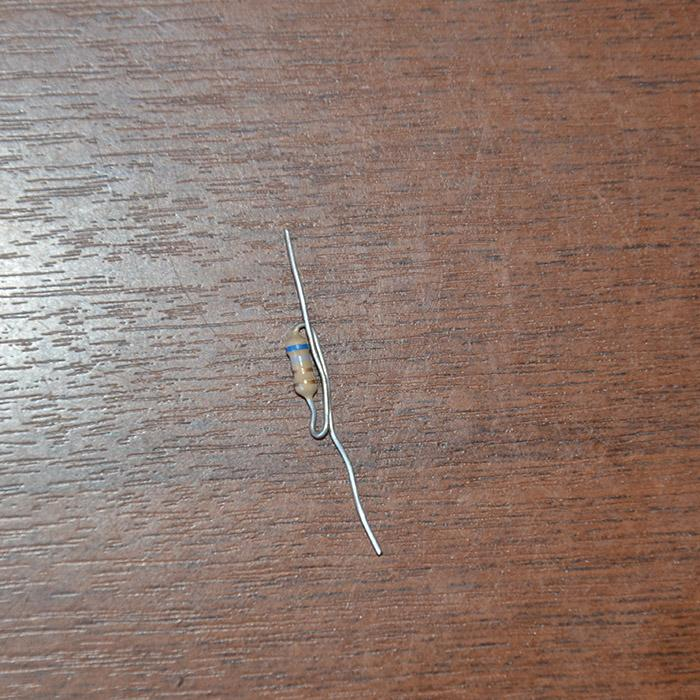resistor: (282, 325, 320, 400)
